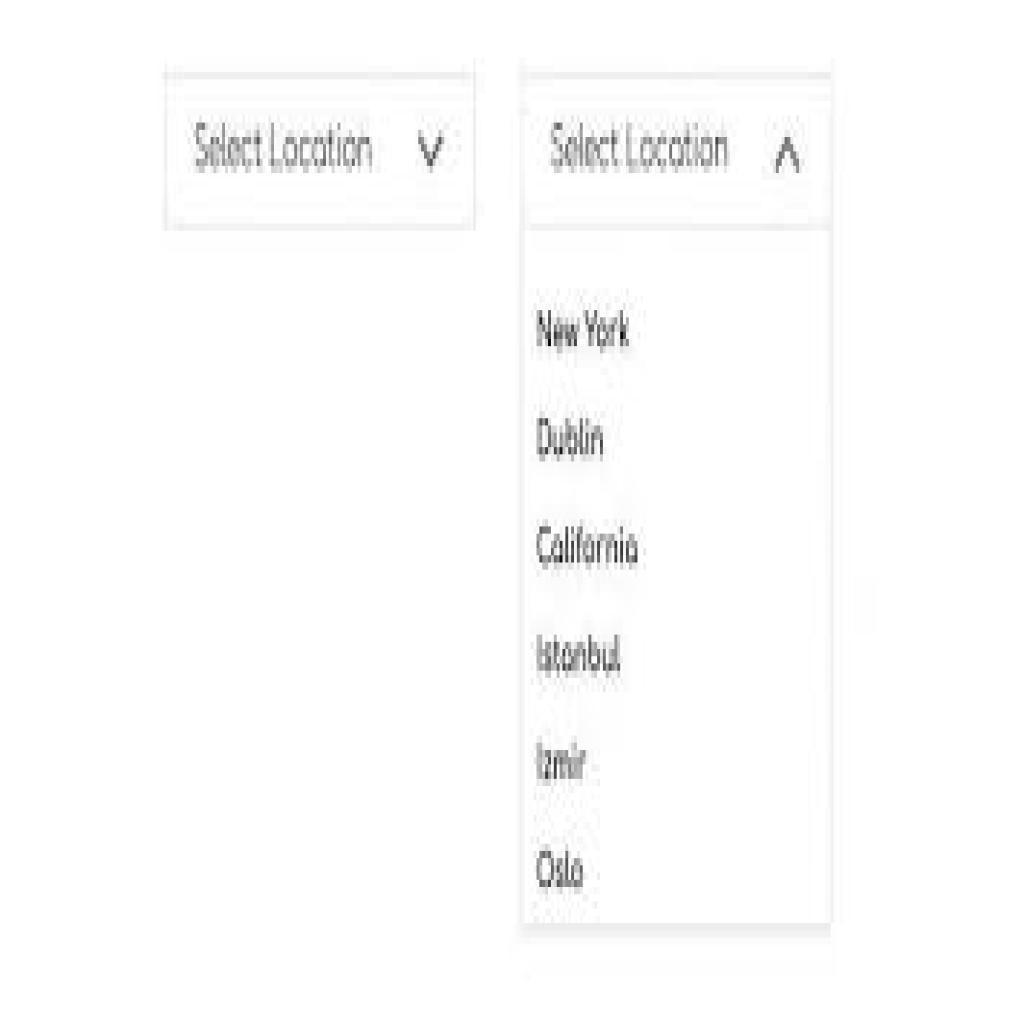dropdown: (519, 72, 832, 230), (165, 70, 477, 228)
label: (531, 305, 642, 357), (534, 520, 647, 570), (532, 630, 629, 681), (537, 411, 612, 465), (527, 840, 593, 898), (534, 735, 594, 787)
